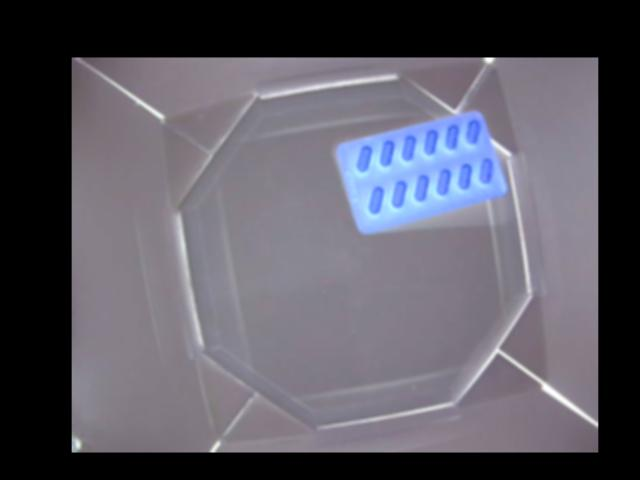Medicine: (335, 109, 507, 232)
